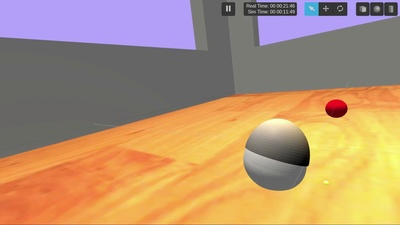mira_robot: (244, 119, 310, 191)
